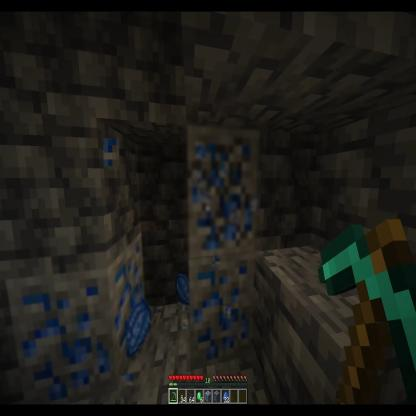lapis ore: (5, 234, 153, 400), (184, 122, 260, 258), (179, 256, 256, 362)
